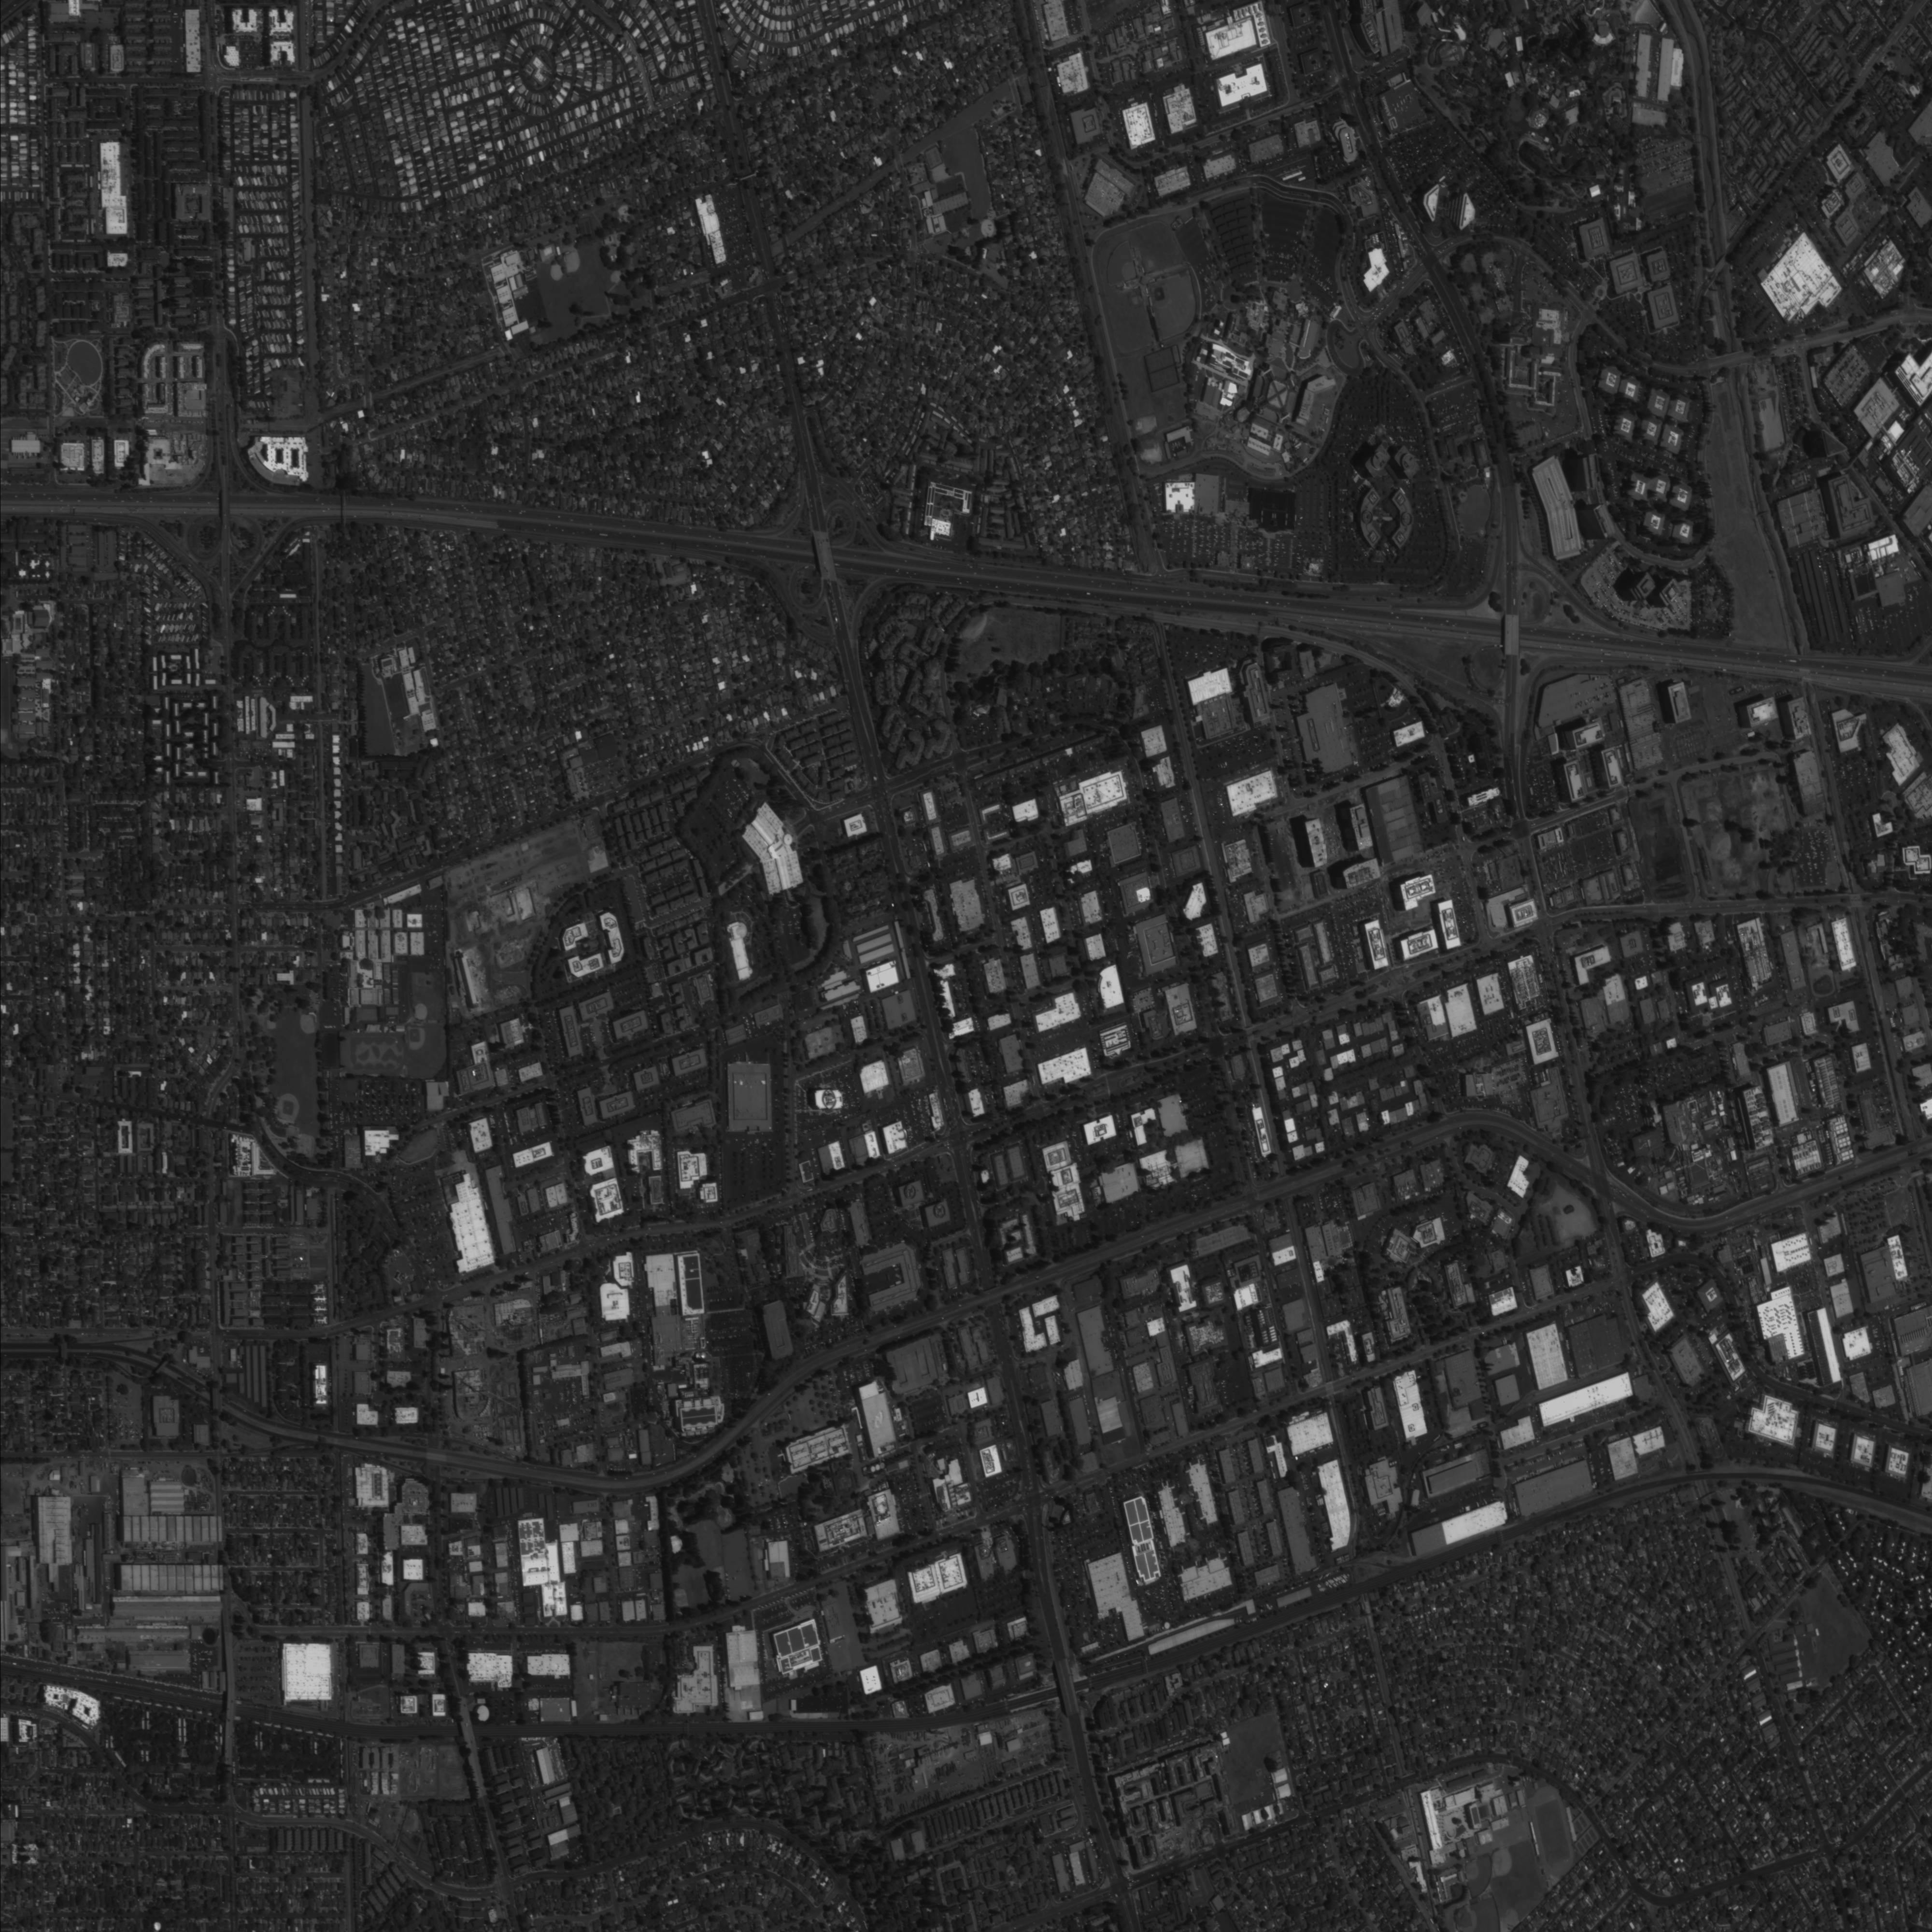baseball diamond: (1490, 1847, 1516, 1881), (1148, 280, 1173, 311), (276, 1092, 301, 1122), (1456, 1905, 1481, 1930), (1139, 251, 1164, 276), (1122, 287, 1146, 311), (1463, 1859, 1483, 1886), (295, 1014, 317, 1037), (409, 1026, 426, 1051), (1120, 260, 1138, 281), (414, 1003, 430, 1021)
bridge: (1713, 345, 1759, 375), (1706, 246, 1737, 285)
ground track field: (1529, 1785, 1576, 1879)
storage tank: (472, 1706, 490, 1721), (1164, 1621, 1171, 1629)
